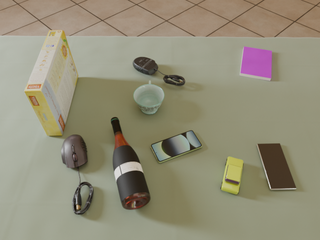book: (240, 47, 272, 81)
bottle: (111, 117, 150, 210)
box: (24, 30, 78, 136)
cup: (133, 81, 164, 114)
mouse: (61, 135, 88, 172), (133, 57, 158, 75)
phone: (257, 144, 296, 190), (151, 130, 202, 163)
toy_car: (221, 157, 243, 194)
